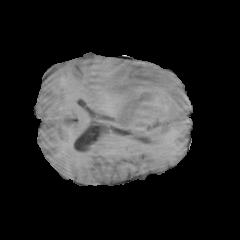glioma: (89, 67, 188, 141)
